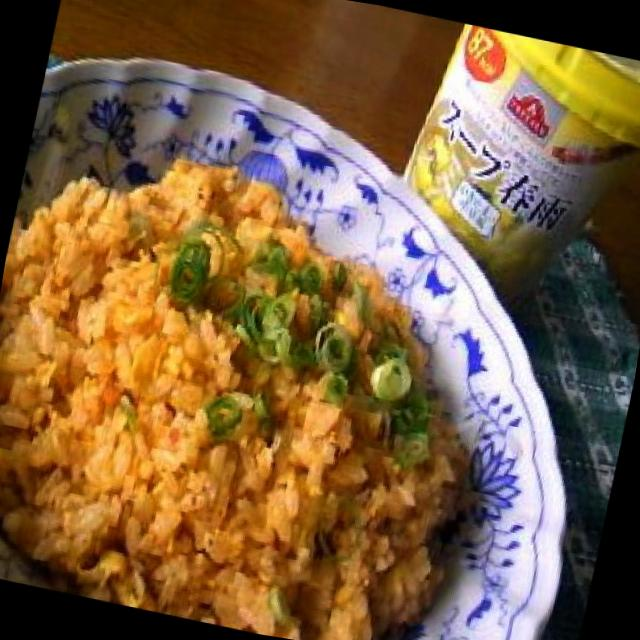Rice: (0, 113, 522, 640)
